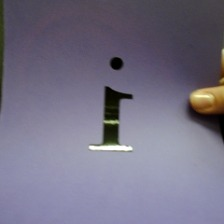violet1: (79, 54, 143, 155)
